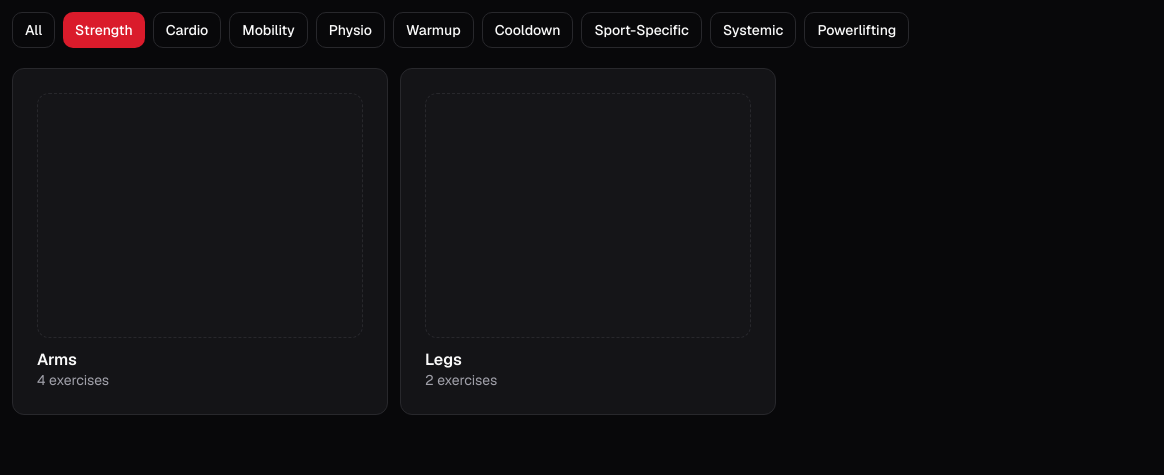
Scenario: ExercisesTab — by-muscle browse › subdivision + resistance filter chips narrow the list; UNI chip only on laterality<>'bi'
This screenshot has width=1164, height=475.
Click the button "Arms 4 exercises" at (200, 241), box [12,68,388,414]
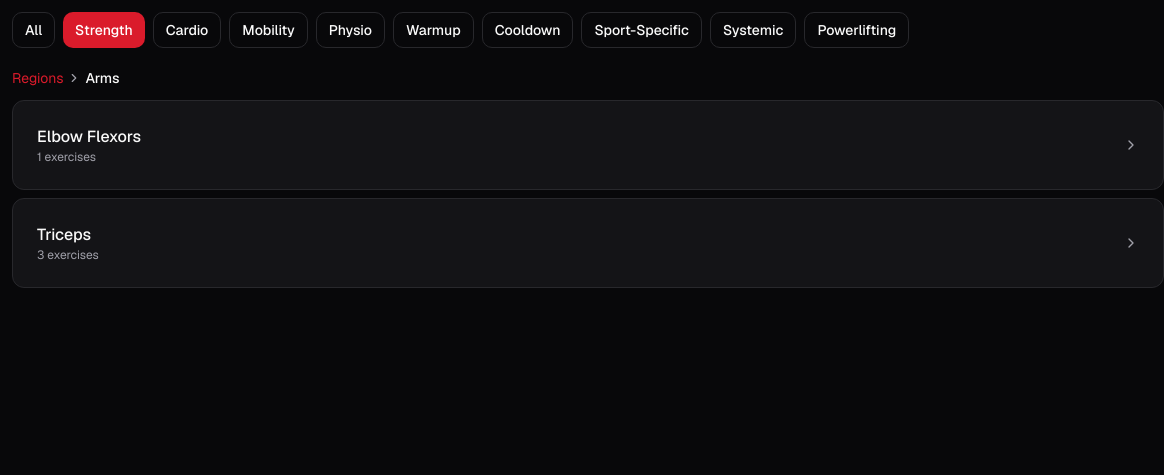
Click the button "Triceps 3 exercises" at (64, 234), box [12,198,1163,288]
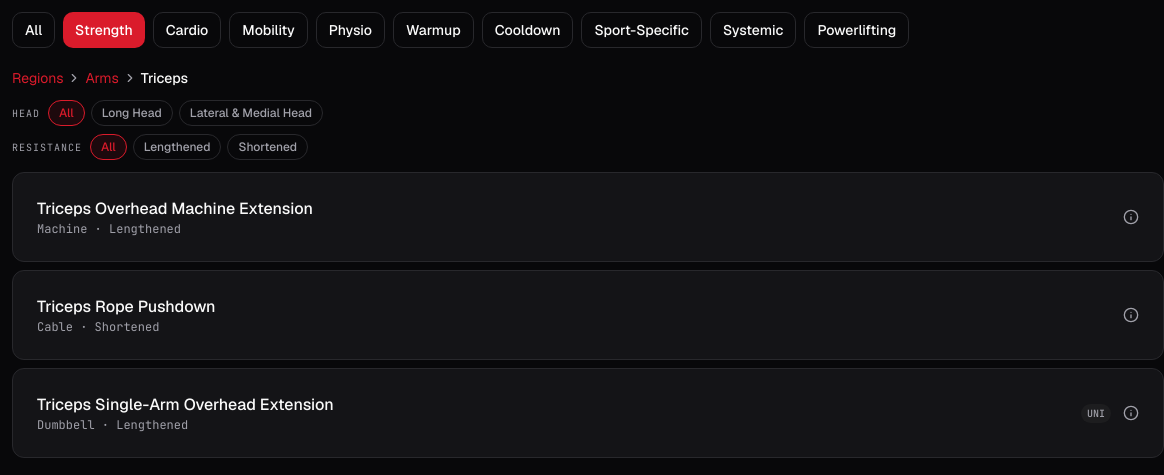
Click the button "Long Head" at (132, 113), box [91,100,173,126]
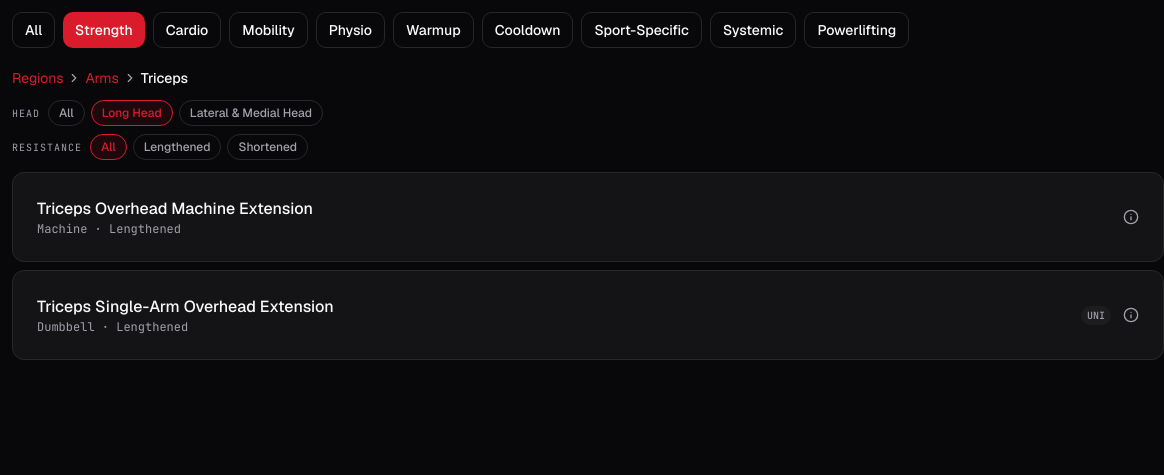
Check: the text "Triceps Overhead Machine Extension" is shown, box [37,198,313,219]
Check: the text "Triceps Single-Arm Overhead Extension" is shown, box [37,296,334,317]
Check: the text "Triceps Rope Pushdown" is gone
Click the button "Long Head" at (132, 113), box [91,100,173,126]
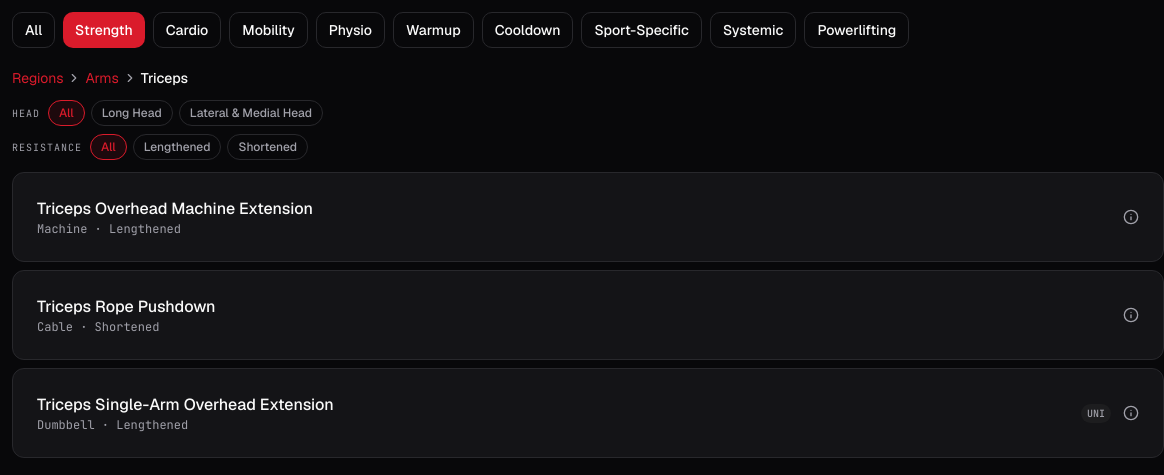
Click the button "Shortened" at (268, 147), box [228,134,308,160]
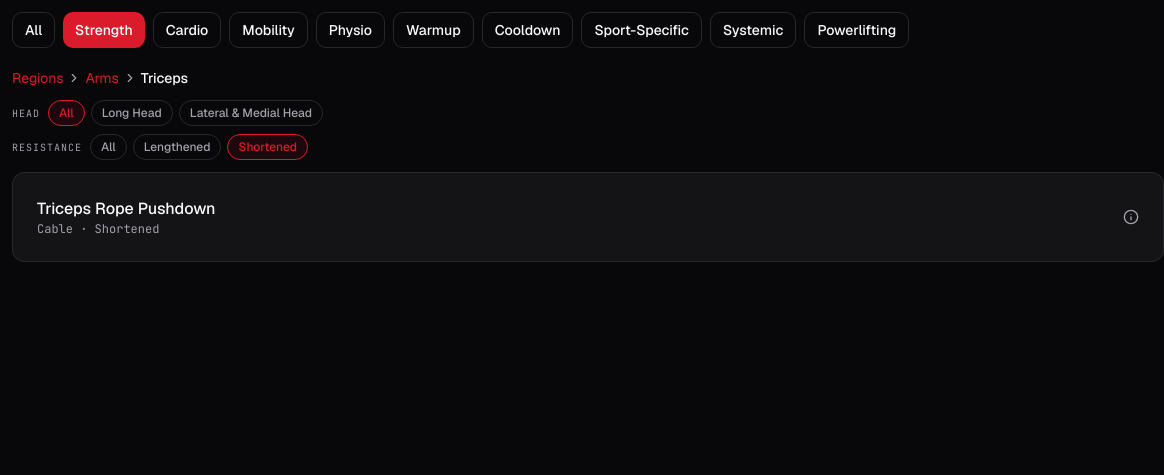
Check: the text "Triceps Rope Pushdown" is shown, box [37,198,216,219]
Check: the text "Triceps Overhead Machine Extension" is gone
